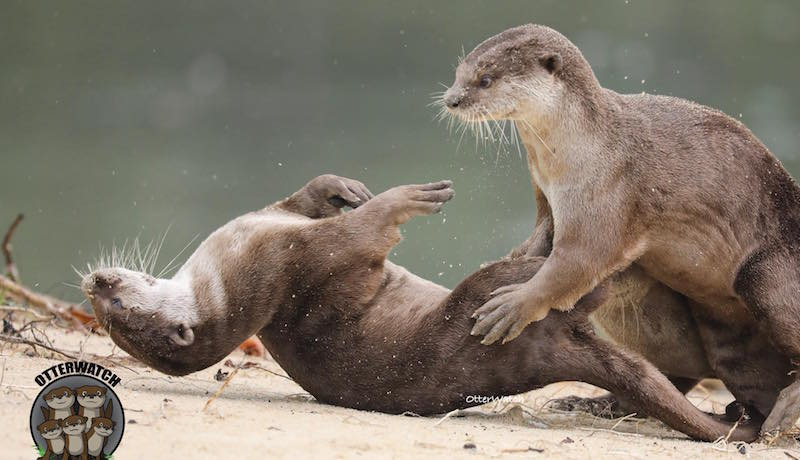otter: (84, 157, 738, 440), (431, 13, 800, 349)
